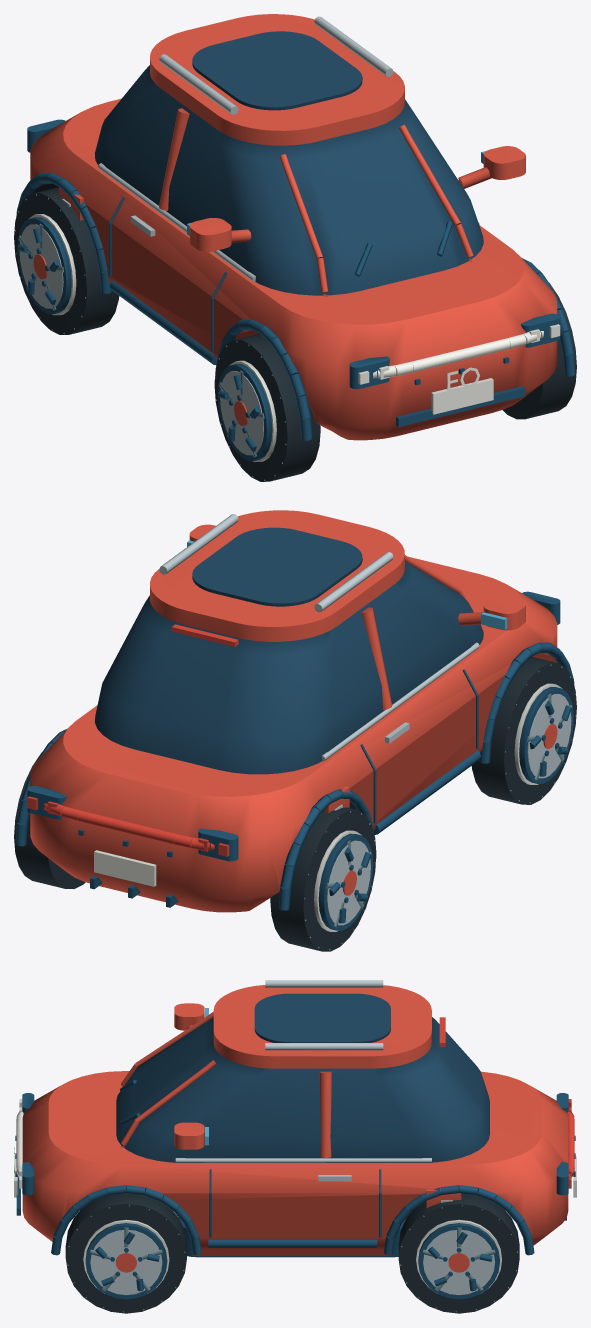
The model's file is car-coral.glb.
3 renders of one model, top to bottom at view 1: azimuth 30°, elevation 25°; view 2: azimuth 150°, elevation 25°; view 3: azimuth 270°, elevation 25°, orthographic. The views are drawn at different scales.
Visible parts, largest first — view 1: sculpted electric body, sloping panoramic cabin, electric tire, battery underbody, flush door handle, aero wheel cover; view 2: sculpted electric body, sloping panoramic cabin, electric tire, battery underbody, flush door handle, conforming LED ribbon.012, aero wheel cover, aero spoke; view 3: sculpted electric body, sloping panoramic cabin, electric tire, battery underbody, flush door handle, aero wheel cover, aero spoke, conforming LED ribbon.012.
Part boxes in pixels (<box>): sculpted electric body: <box>30,14,557,440</box>; sloping panoramic cabin: <box>94,31,483,295</box>; electric tire: <box>14,187,576,481</box>; battery underbody: <box>16,119,575,460</box>; flush door handle: <box>19,16,479,455</box>; aero wheel cover: <box>28,214,560,462</box>; sculpted electric body: <box>30,510,557,912</box>; sloping panoramic cabin: <box>95,527,483,774</box>; electric tire: <box>14,657,576,951</box>; battery underbody: <box>15,591,574,930</box>; flush door handle: <box>159,514,571,925</box>; conforming LED ribbon.012: <box>27,624,238,856</box>; aero wheel cover: <box>94,683,562,931</box>; aero spoke: <box>304,664,576,950</box>; sculpted electric body: <box>22,985,568,1272</box>; sloping panoramic cabin: <box>116,993,489,1162</box>; electric tire: <box>65,1193,519,1313</box>; battery underbody: <box>15,1079,575,1299</box>; flush door handle: <box>90,980,494,1295</box>; aero wheel cover: <box>14,1099,576,1293</box>; aero spoke: <box>67,1205,517,1312</box>; conforming LED ribbon.012: <box>439,1017,574,1188</box>.
Size of the model in its own units: 1.03 by 0.886 by 1.86.
